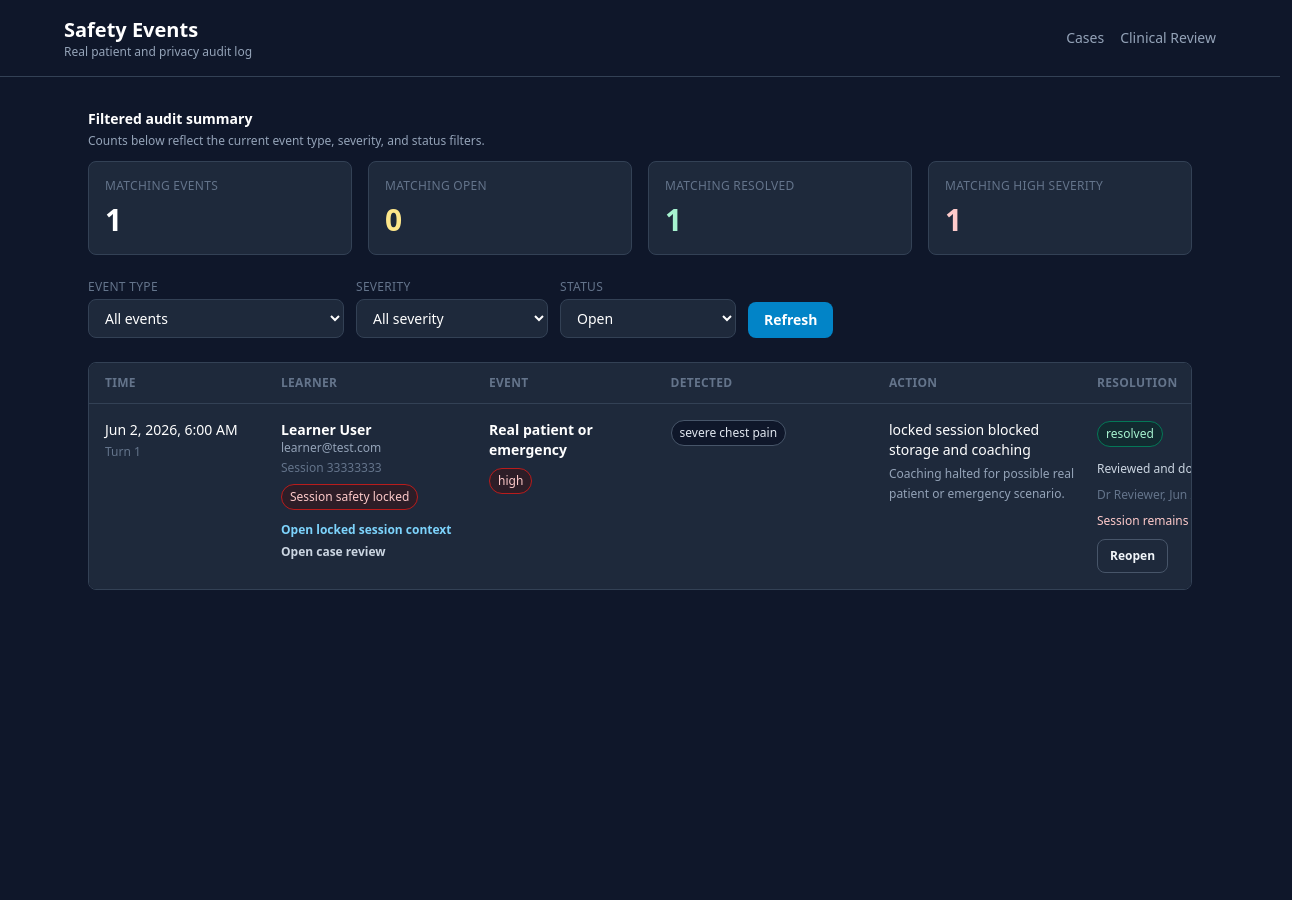
Scenario: SafetyEventsPage › reopens a resolved safety event
Click the button "Reopen" at [1132, 556], box x1=1097 y1=539 x2=1168 y2=573
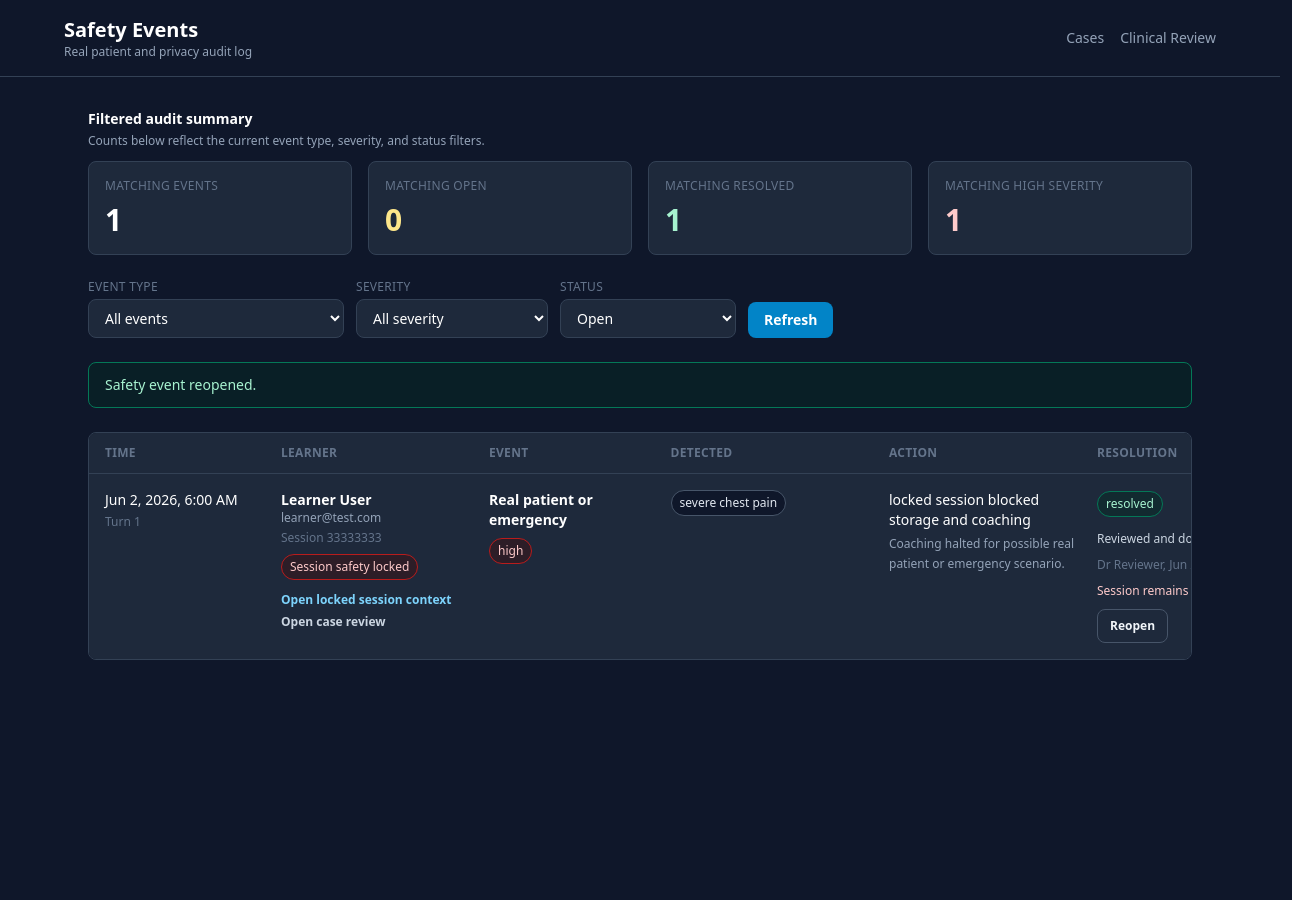
expect the text "Safety event reopened." is shown: met, box x1=88 y1=362 x2=1192 y2=408
